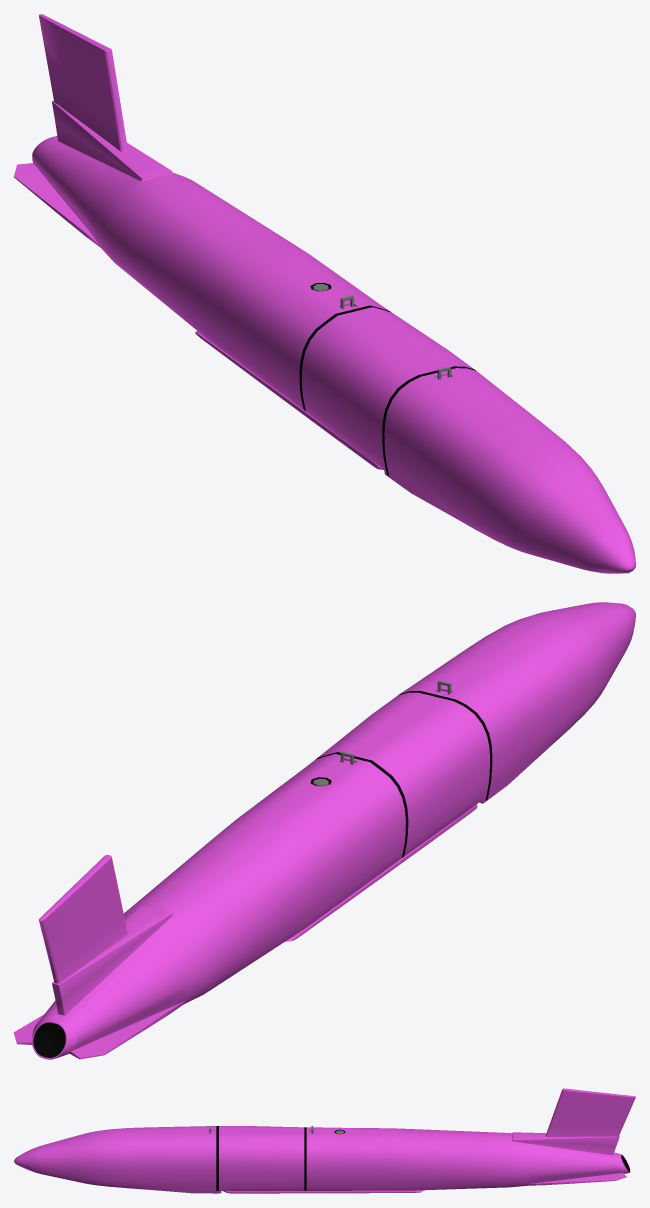
The model's file is AGM-158.fbx.
The picture shows the model from 3 angles, top to bottom: view 1: azimuth 30°, elevation 25°; view 2: azimuth 150°, elevation 25°; view 3: azimuth 270°, elevation 25°; orthographic projection. The views are drawn at different scales.
Parts seen in each view (by area): view 1: Body, R_Wing; view 2: Body, R_Wing; view 3: Body, L_Wing.
Boxes of the visible parts, x1,y1,x2,y2 form: Body: (14,14,635,573); R_Wing: (195,331,383,469); Body: (14,602,635,1059); R_Wing: (285,804,477,941); Body: (14,1088,635,1193); L_Wing: (223,1190,423,1193).
Size of the model in its own units: 88.4 by 137 by 838.
